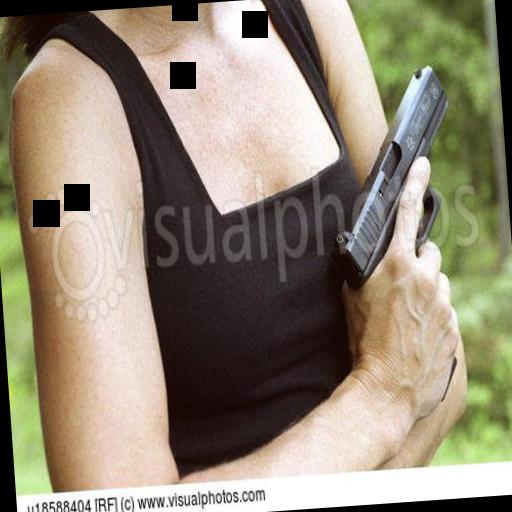Handgun: (318, 56, 468, 295)
